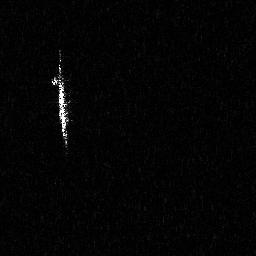ship: (47, 47, 75, 154)
